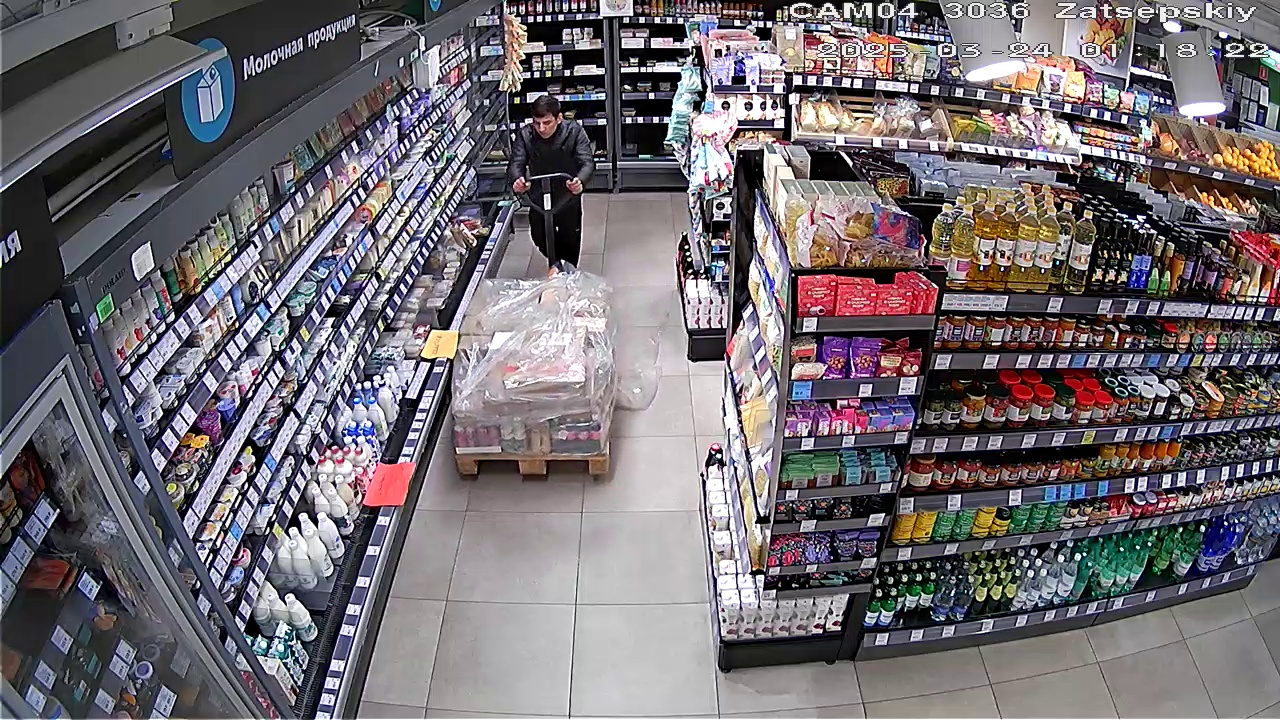Human: (489, 97, 595, 269)
pallet: (455, 273, 609, 482)
